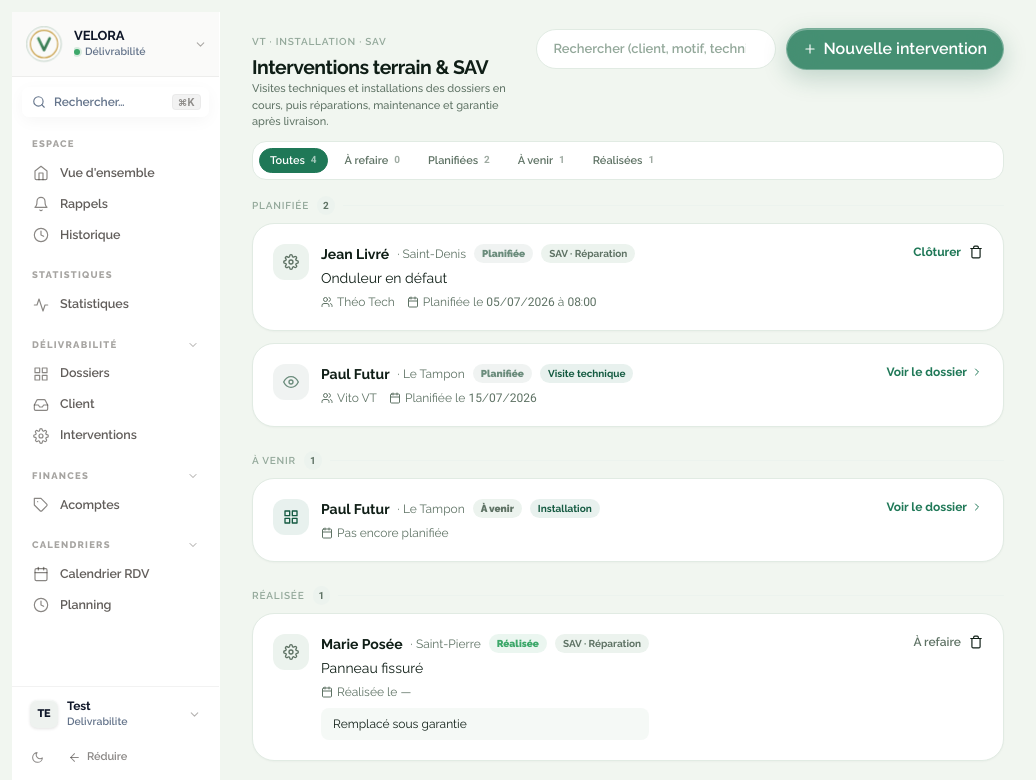
Test: Interventions — page SAV › filtre « À venir » : montre l’installation pas encore commencée, masque le reste
Click the button "À venir 1" at (541, 160), box [507,148,576,173]
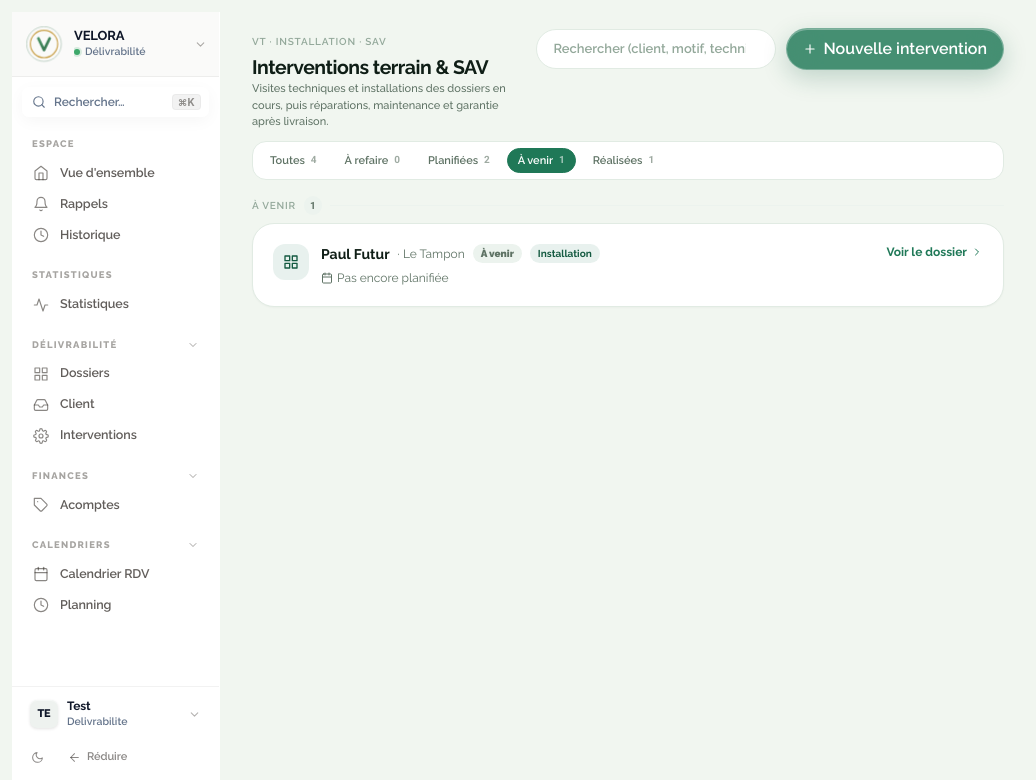
Expected: the text "Installation" is shown, [530,244,600,264]
Expected: the text "Visite technique" is gone
Expected: the text "Onduleur en défaut" is gone
